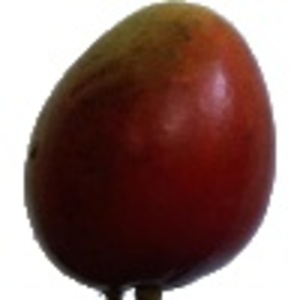manga: (25, 1, 278, 300)
